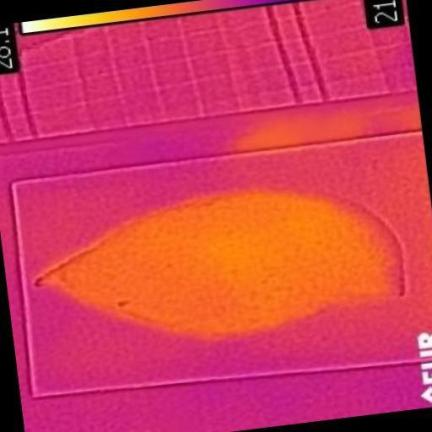mango: (36, 191, 401, 339)
